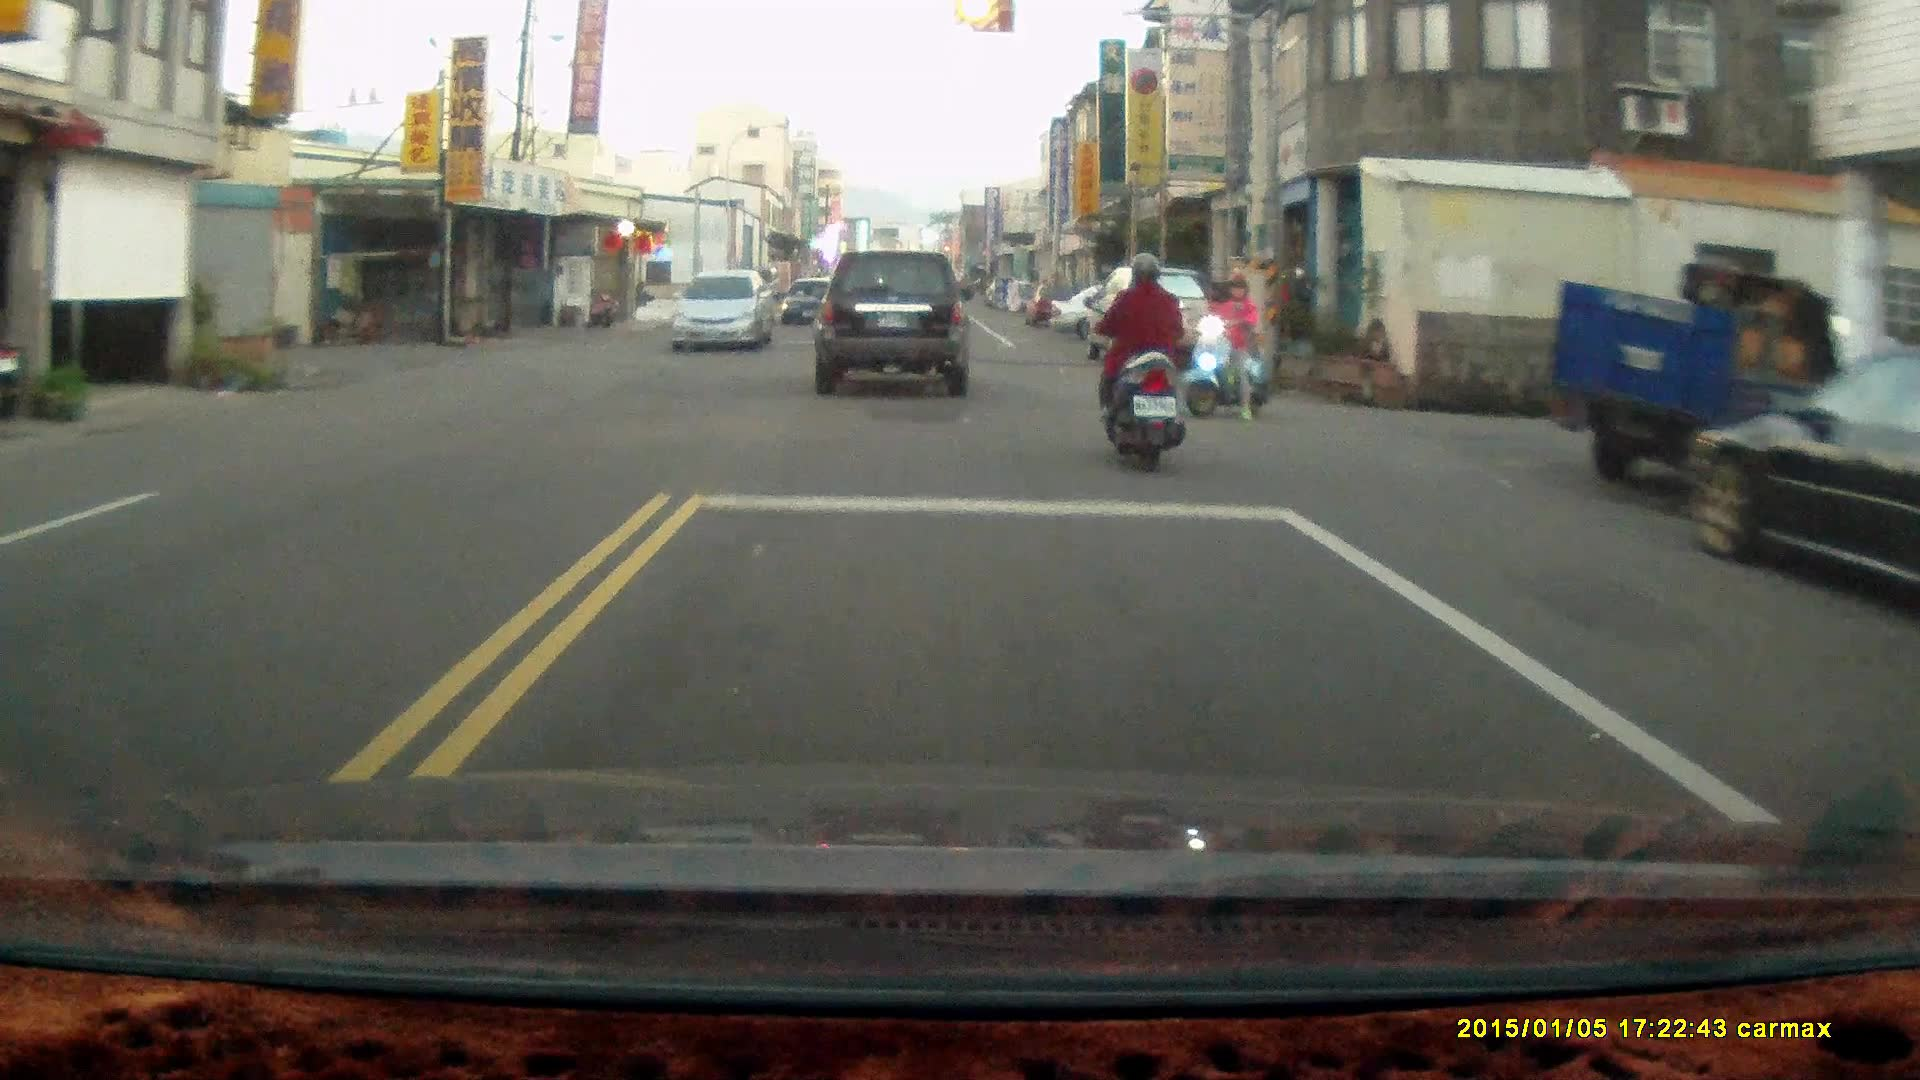rider: (1097, 251, 1183, 481), (1188, 268, 1272, 424)
vehicle: (1545, 256, 1848, 496), (1686, 347, 1920, 614), (813, 251, 979, 403), (1090, 266, 1223, 368), (667, 268, 780, 352)
